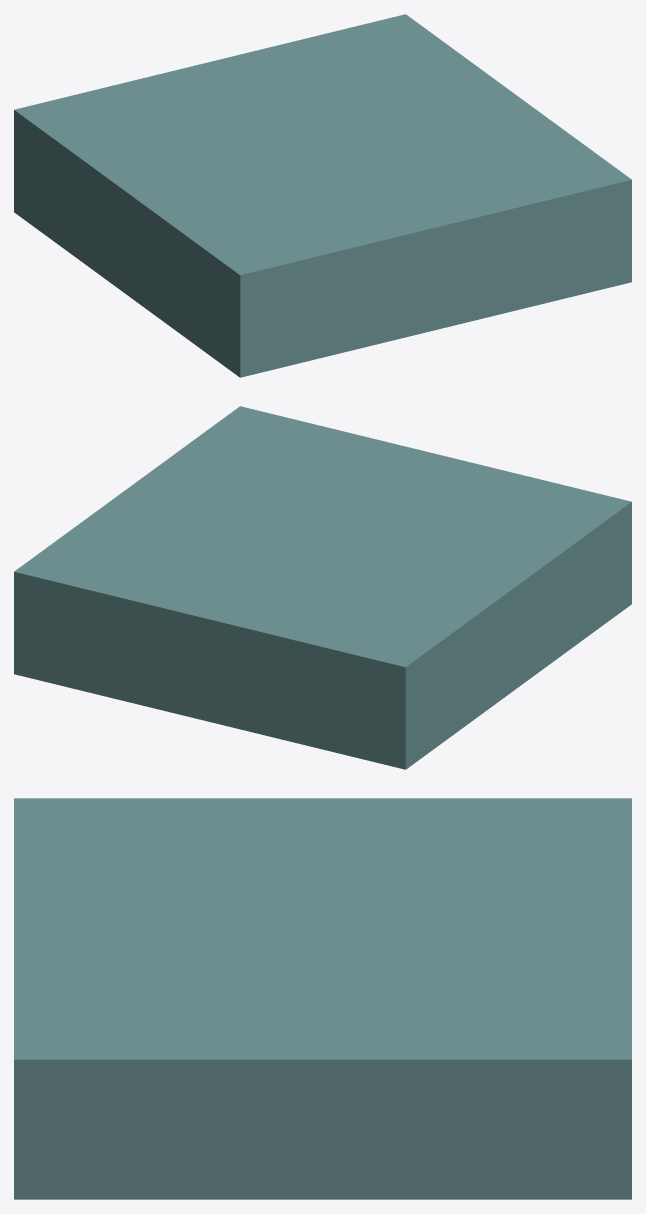
The model's file is flagstone.glb.
3 renders of one model, top to bottom at view 1: azimuth 30°, elevation 25°; view 2: azimuth 150°, elevation 25°; view 3: azimuth 270°, elevation 25°, orthographic. The views are drawn at different scales.
Visible parts, largest first — view 1: Cube.016, Cube.013, Cube.014, Cube.015, Cube.008, Cube.012, Cube.001, Cube.005, Cube.002, Cube.004, Cube.007, Cube.009 (+4 smaller); view 2: Cube.001, Cube.004, Cube.003, Cube.002, Cube.008, Cube.012, Cube.016, Cube.009, Cube.013, Cube.015, Cube.005, Cube.011 (+4 smaller); view 3: Cube.004, Cube.005, Cube.009, Cube.013, Cube.001, Cube.002, Cube.003, Cube.008, Cube.010, Cube.011, Cube.012, Cube.016 (+4 smaller).
Part boxes in pixels (x1,y1,x2,y2): Cube.016: [183, 210, 337, 377]; Cube.013: [478, 138, 631, 305]; Cube.014: [380, 162, 533, 329]; Cube.015: [282, 186, 435, 353]; Cube.008: [70, 127, 224, 294]; Cube.012: [127, 168, 280, 335]; Cube.001: [14, 86, 167, 253]; Cube.005: [364, 55, 518, 120]; Cube.002: [112, 62, 265, 127]; Cube.004: [308, 14, 461, 79]; Cube.007: [169, 103, 322, 168]; Cube.009: [421, 97, 574, 161]; Cube.001: [308, 602, 462, 769]; Cube.004: [14, 530, 167, 697]; Cube.003: [112, 554, 265, 721]; Cube.002: [210, 578, 363, 745]; Cube.008: [365, 560, 518, 727]; Cube.012: [421, 519, 575, 686]; Cube.016: [478, 478, 631, 645]; Cube.009: [127, 447, 281, 512]; Cube.013: [184, 406, 337, 471]; Cube.015: [380, 454, 533, 519]; Cube.005: [71, 489, 224, 553]; Cube.011: [323, 495, 476, 560]; Cube.004: [477, 994, 631, 1199]; Cube.005: [323, 994, 477, 1199]; Cube.009: [168, 994, 322, 1199]; Cube.013: [14, 994, 168, 1199]; Cube.001: [477, 798, 631, 863]; Cube.002: [477, 863, 631, 928]; Cube.003: [477, 929, 631, 994]; Cube.008: [323, 798, 477, 863]; Cube.010: [168, 929, 322, 994]; Cube.011: [168, 863, 322, 928]; Cube.012: [168, 798, 322, 863]; Cube.016: [14, 798, 168, 863].
Size of the model in its own units: 1 by 0.25 by 1.
